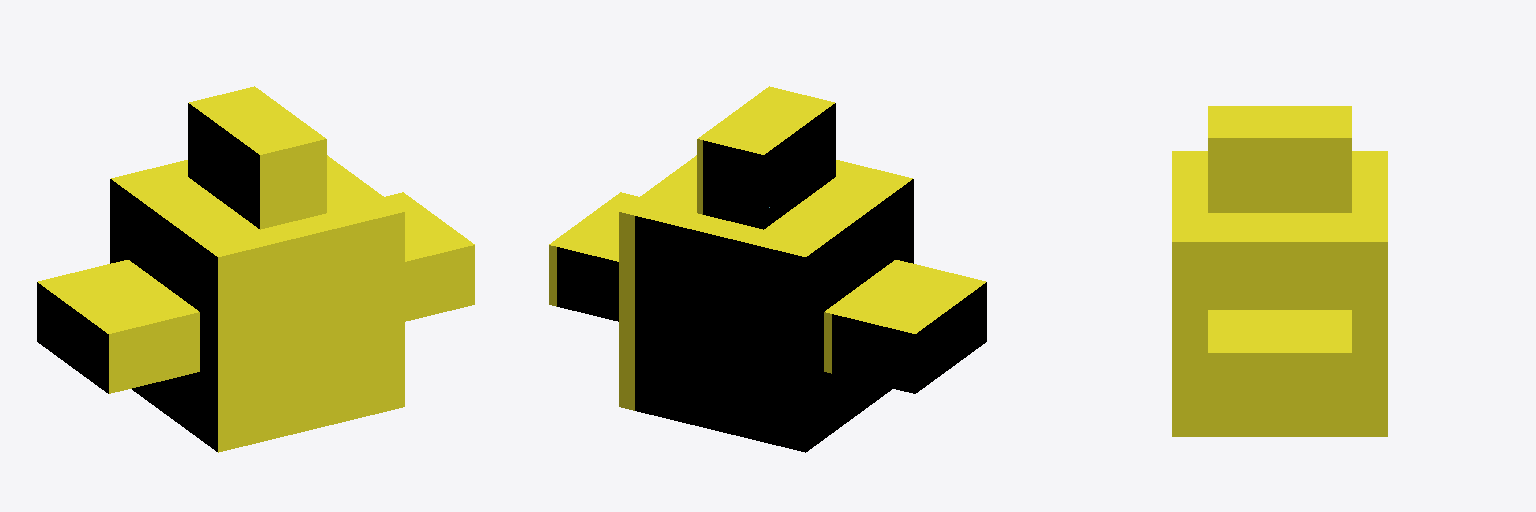
3 renders of one model, left to right at view 1: azimuth 30°, elevation 25°; view 2: azimuth 150°, elevation 25°; view 3: azimuth 270°, elevation 25°, orthographic.
Parts seen in each view (by area): view 1: 立方体.006; view 2: 立方体.006; view 3: 立方体.006.
Boxes of the visible parts, x1,y1,x2,y2 form: 立方体.006: [37, 86, 474, 452]; 立方体.006: [549, 86, 986, 452]; 立方体.006: [1172, 106, 1387, 436].
Bounding box in the file's own units: 5.9 × 4.14 × 3.
1 materials, 1 textured.